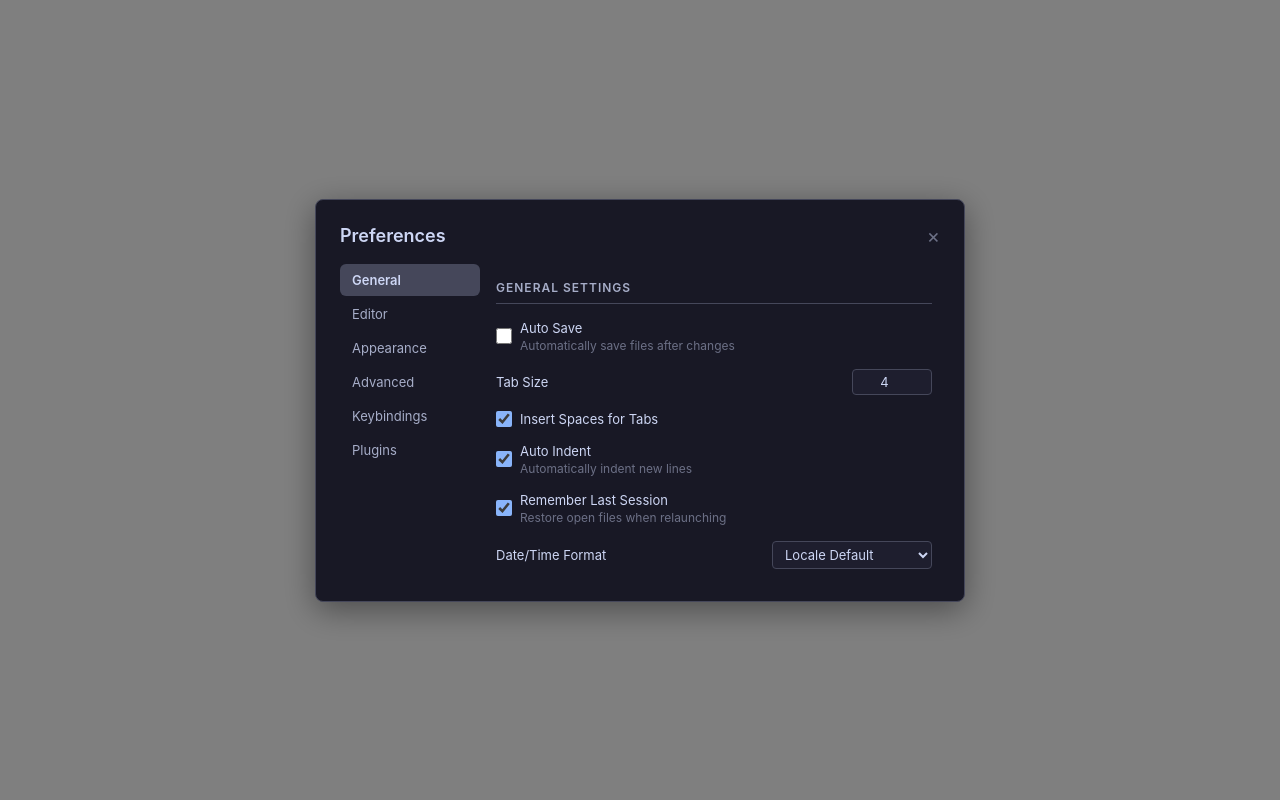
Test case: SettingsDialogViewPresenter › navigates to Advanced section when Advanced tab is clicked
This screenshot has width=1280, height=800.
Click the text "Advanced".
click(383, 382)  # box left=352, top=374, right=414, bottom=390
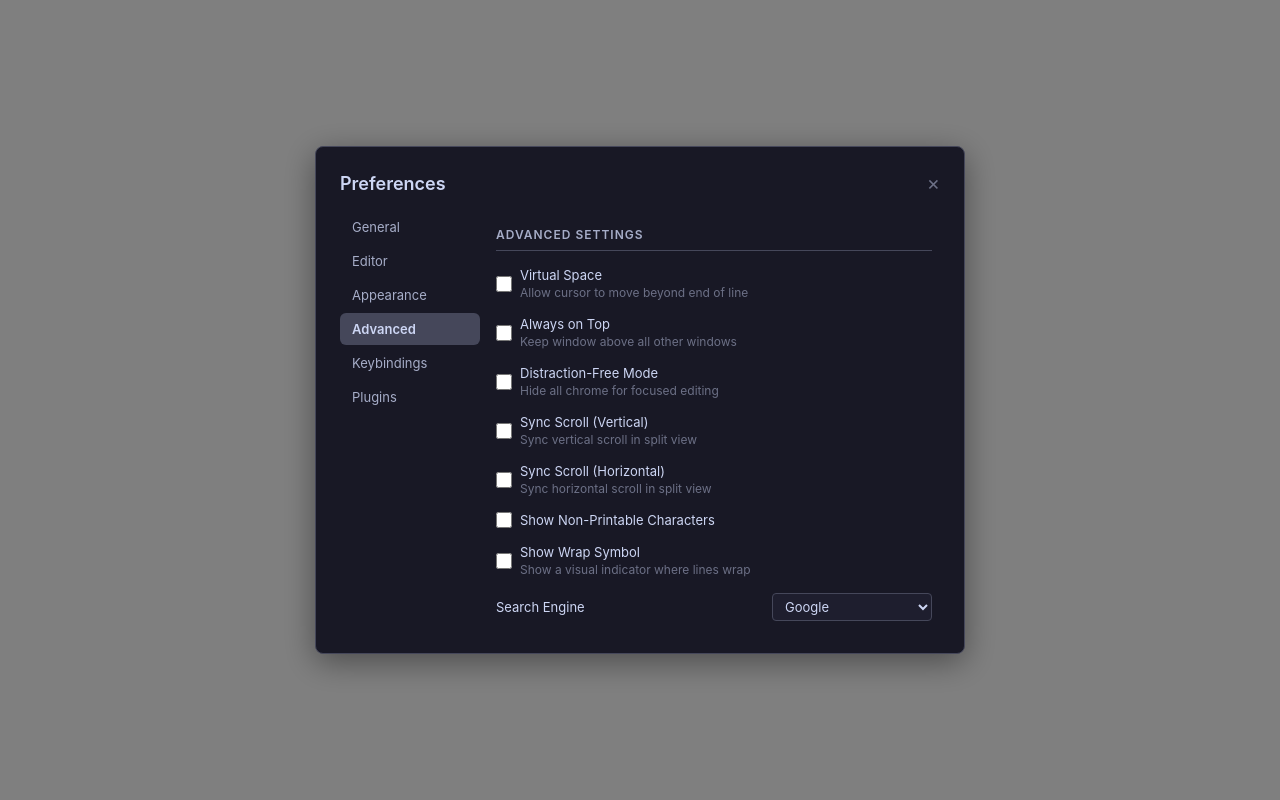
Now the text "Virtual Space" is shown, box left=520, top=267, right=602, bottom=283
